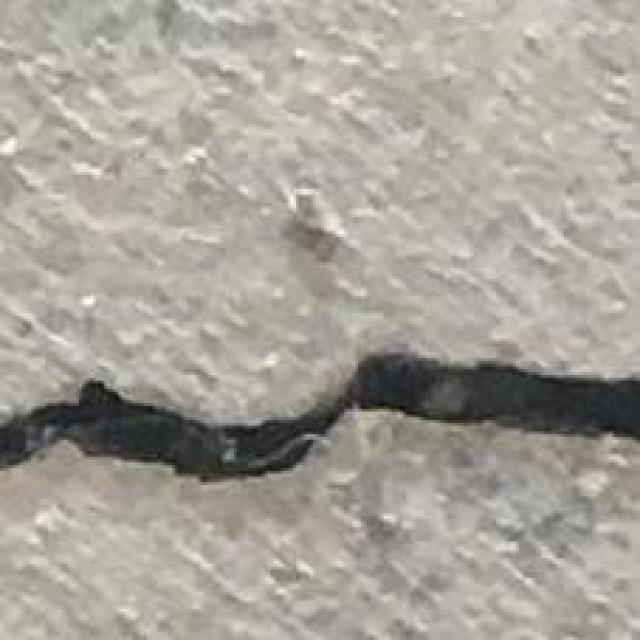horizontal crack: (0, 353, 639, 481)
